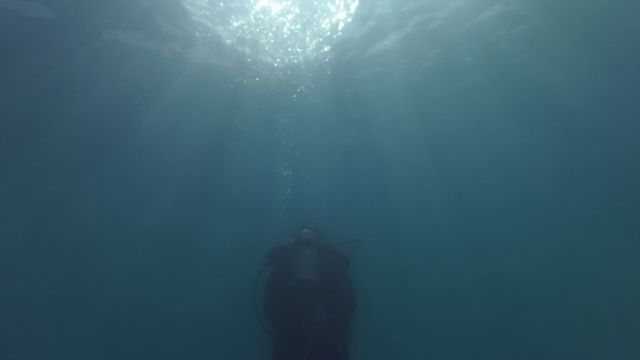Diver: (233, 202, 384, 356)
